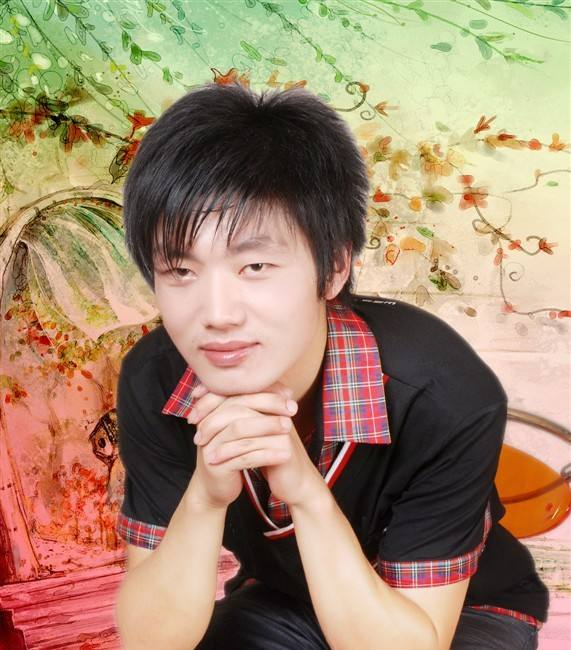person: (83, 80, 498, 638)
